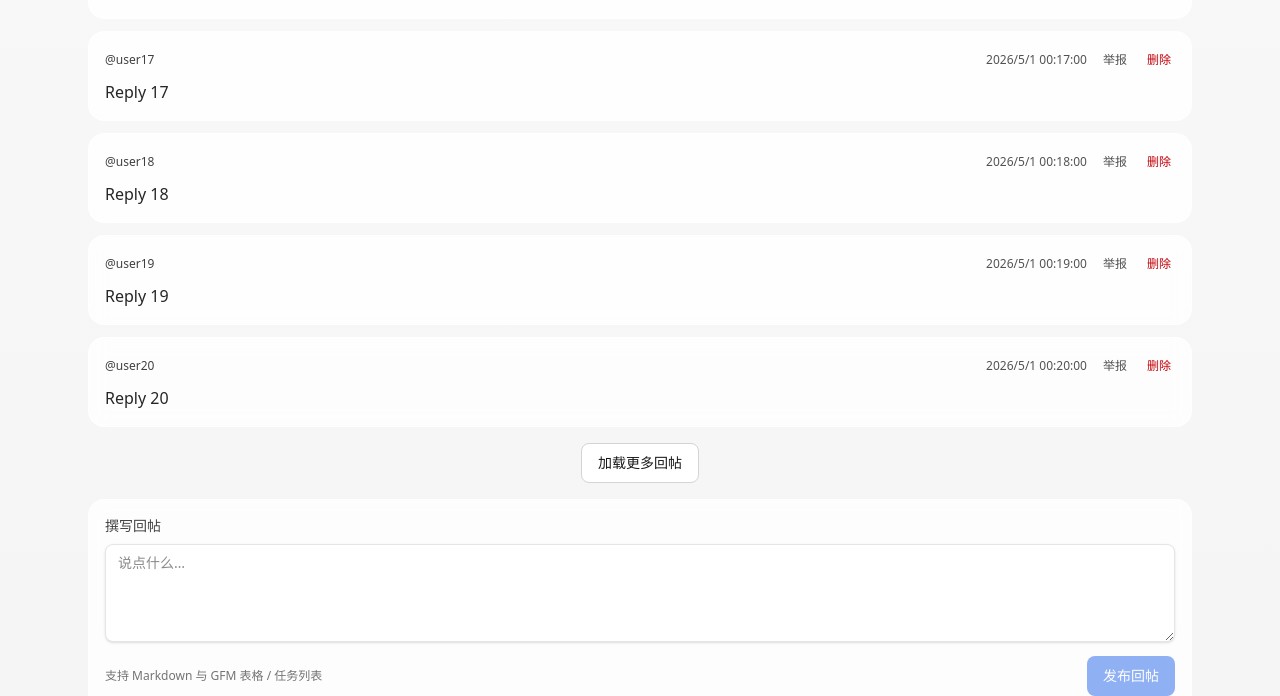
Test: ForumDetailPage replies pagination › removes a deleted reply from an already loaded pagination page
(page scrolled)
Click the button "加载更多回帖": click(640, 463) x1=581 y1=443 x2=699 y2=483
(page scrolled)
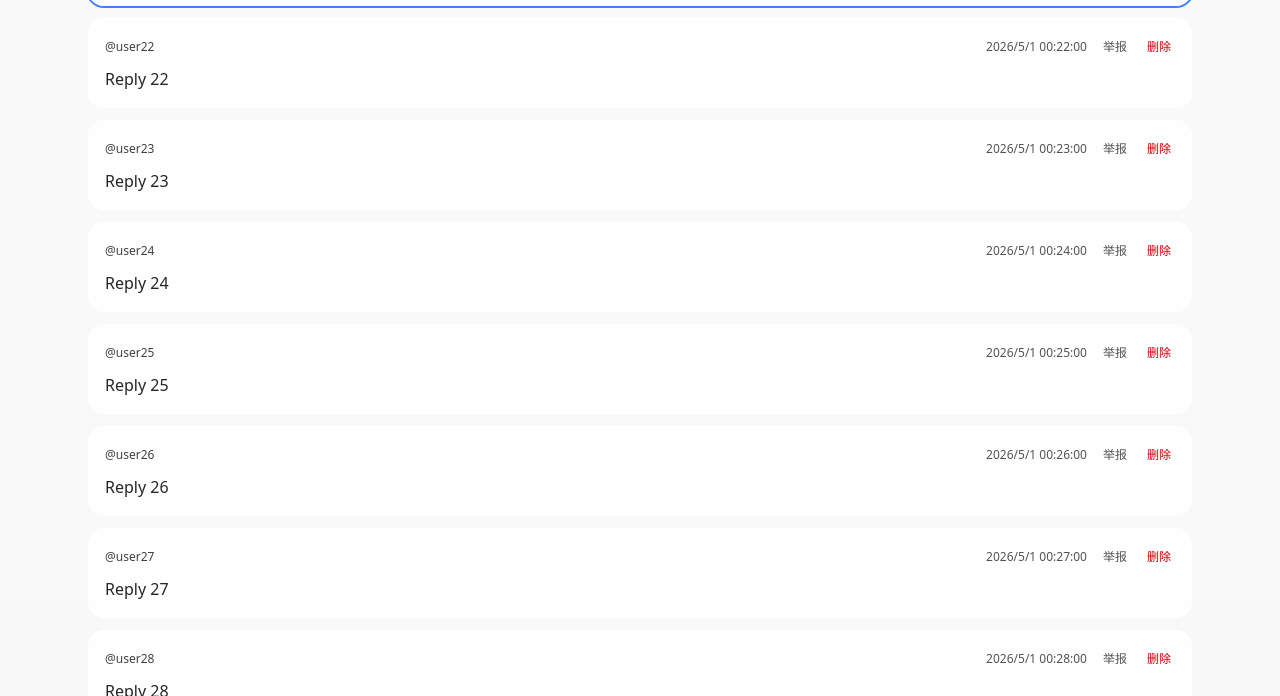
Now the text "Reply 25" is shown, box x1=105 y1=374 x2=169 y2=396
Click the button with aria-label "删除 @user25 的回帖": click(1159, 353) x1=1143 y1=341 x2=1175 y2=365
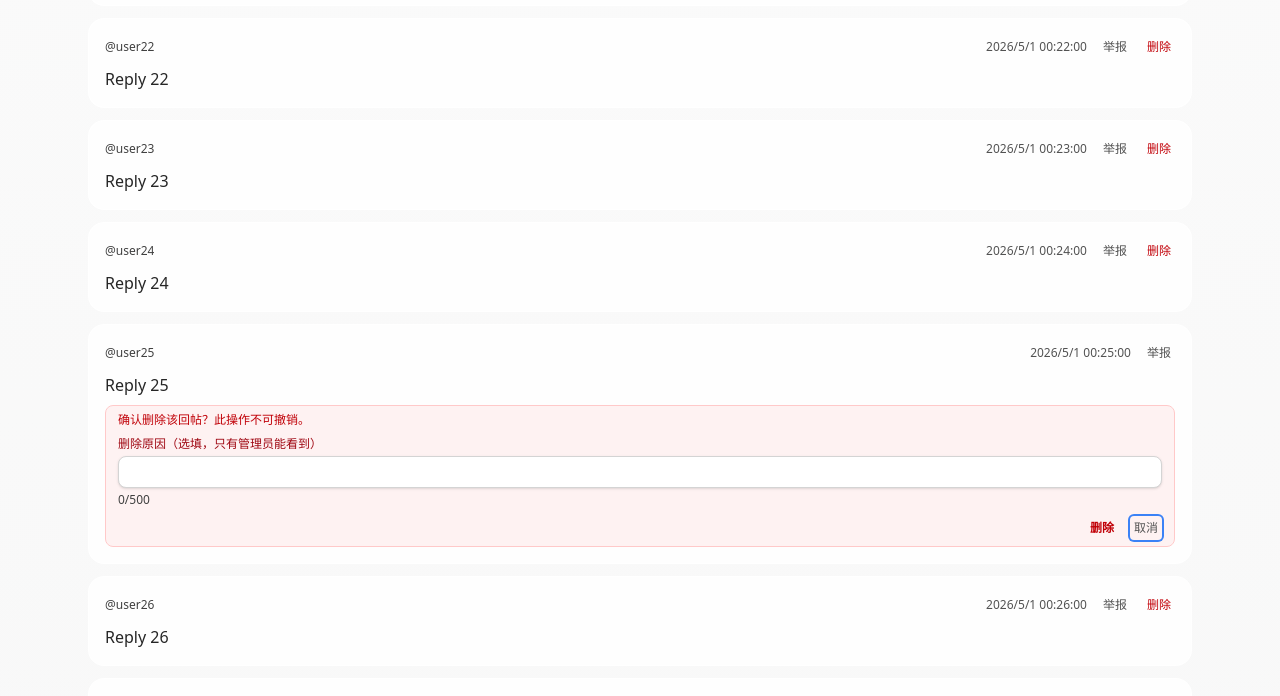
Click the button "删除" below "2026/5/1 00:25:00": click(1102, 528) x1=1086 y1=516 x2=1118 y2=540
(page scrolled)
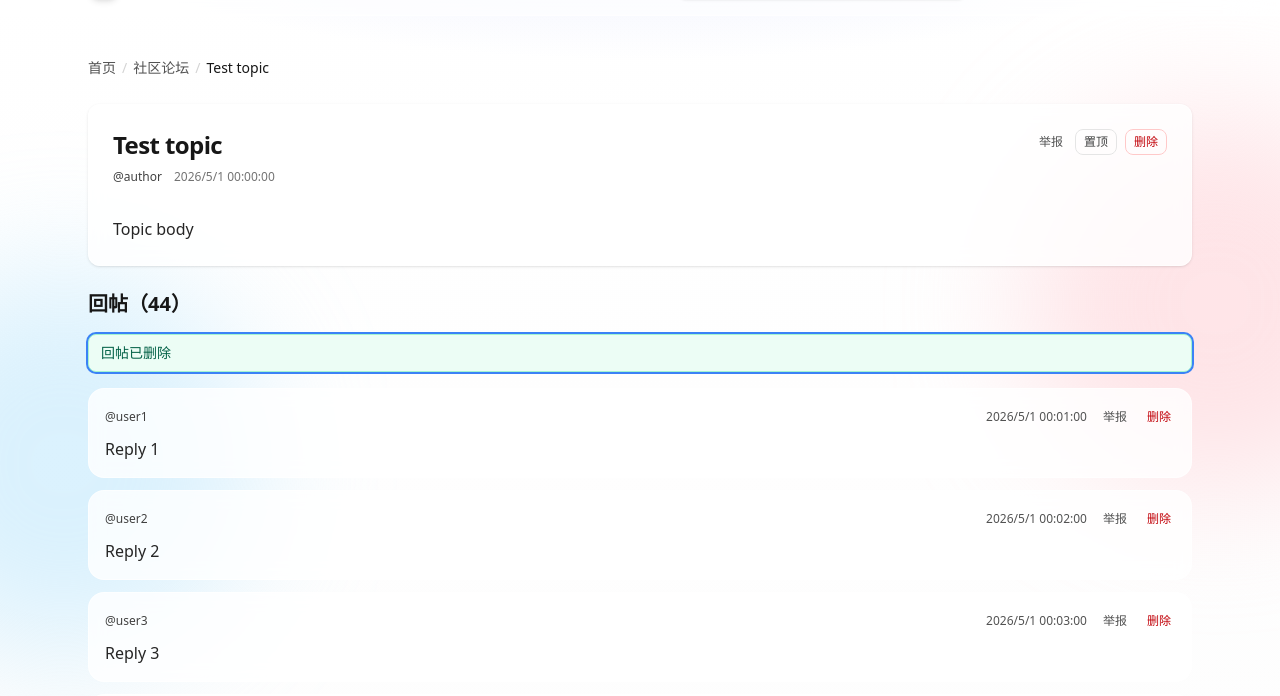
Now the text "Reply 25" is gone
